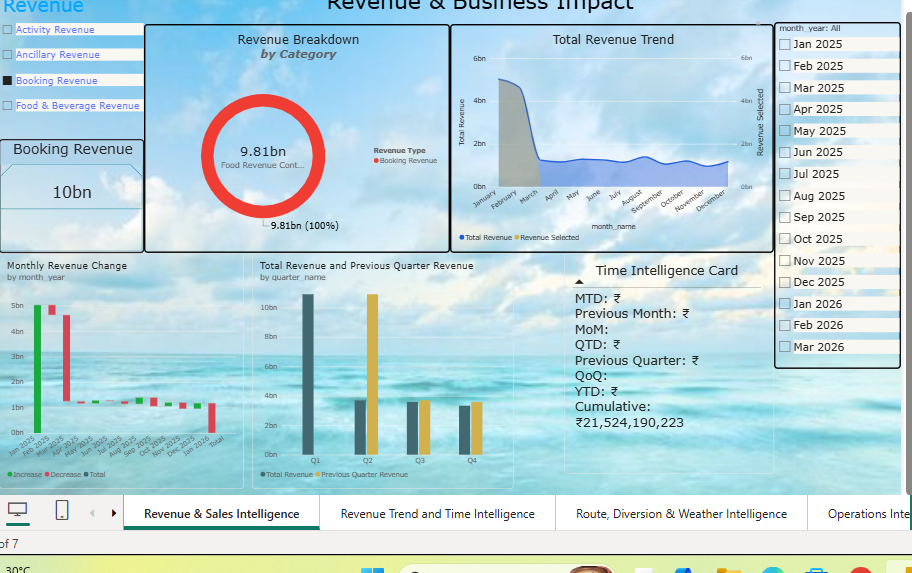

The page's visual inventory and layout, read from the dashboard file:
{"tool":"powerbi","page":{"name":"Revenue & Sales Intelligence","canvas":[1920,1080],"ordinal":0},"visuals":[{"type":"areaChart","title":"Total Revenue Trend","fields":{"Category":["public calendar.month_name"],"Y":["public new_activity_booking.Total Revenue"],"Y2":["Revenue Category.Revenue Selected"]},"box":[959.6,78.7,689.4,487.2],"z":1},{"type":"donutChart","fields":{"Category":["Revenue Category.Revenue Type"],"Y":["Revenue Category.Donut Revenue Display"]},"box":[308.5,78.7,651.1,487.2],"z":3},{"type":"slicer","fields":{"Values":["Revenue Category.Revenue Type"]},"box":[0,20,308.5,294.9],"z":4},{"type":"cardVisual","fields":{"Data":["Revenue Category.Revenue Selected"]},"box":[0,323.4,308.5,242.6],"z":5},{"type":"textbox","title":"Revenue & Time Intelligence","box":[426.7,0,1191.7,80],"z":25},{"type":"slicer","fields":{"Values":["public calendar.quarter_name","public calendar.month_name"]},"box":[1648,74,272,1006],"z":26},{"type":"clusteredColumnChart","title":"Previous Month Revenue vs Month Revenue","fields":{"Category":["public calendar.month_name"],"Y":["Revenue Category.Revenue Selected"]},"box":[590,566,612,514],"z":27},{"type":"waterfallChart","title":"Monthly Revenue Change","fields":{"Category":["public calendar.month_year"],"Y":["Revenue Category.Monthly Revenue Change1"]},"box":[0,566,589.4,502.1],"z":28},{"type":"tableEx","fields":{"Values":["public calendar.Time Intelligence Card"]},"box":[1202.1,566,446.8,514.9],"z":29},{"type":"actionButton","box":[0,0,100,40],"z":31}]}

Visuals, with their boxes in screenshot pixels (x1, y1, x2, y2):
"Total Revenue Trend" areaChart: BBox(450, 20, 772, 248)
donutChart - Revenue Category.Revenue Type x Revenue Category.Donut Revenue Display: BBox(145, 20, 450, 248)
slicer - Revenue Category.Revenue Type: BBox(0, 0, 145, 131)
cardVisual - Revenue Category.Revenue Selected: BBox(0, 135, 145, 249)
"Revenue & Time Intelligence" textbox: BBox(200, 0, 758, 21)
slicer - public calendar.quarter_name x public calendar.month_name: BBox(772, 18, 899, 489)
"Previous Month Revenue vs Month Revenue" clusteredColumnChart: BBox(276, 249, 563, 489)
"Monthly Revenue Change" waterfallChart: BBox(0, 249, 276, 484)
tableEx - public calendar.Time Intelligence Card: BBox(563, 249, 772, 490)
actionButton: BBox(0, 0, 47, 2)
